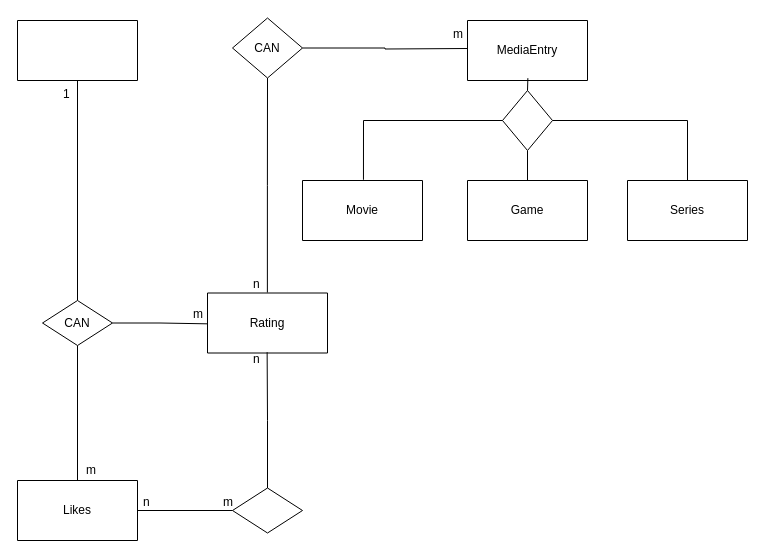
Some shapes in this 765 by 558 pixel diagram are drawn without their labels. The shapes that lost their labels are listed below. From the top down, each one's centre as x and y in pixels, then its label:
the point at 77,50: User
the point at 527,120: IS-A
the point at 267,510: CONTAINS
